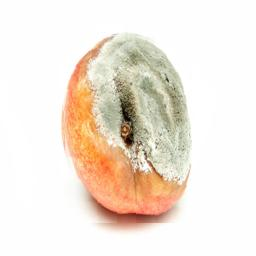Peach Rotten: (61, 33, 193, 224)
